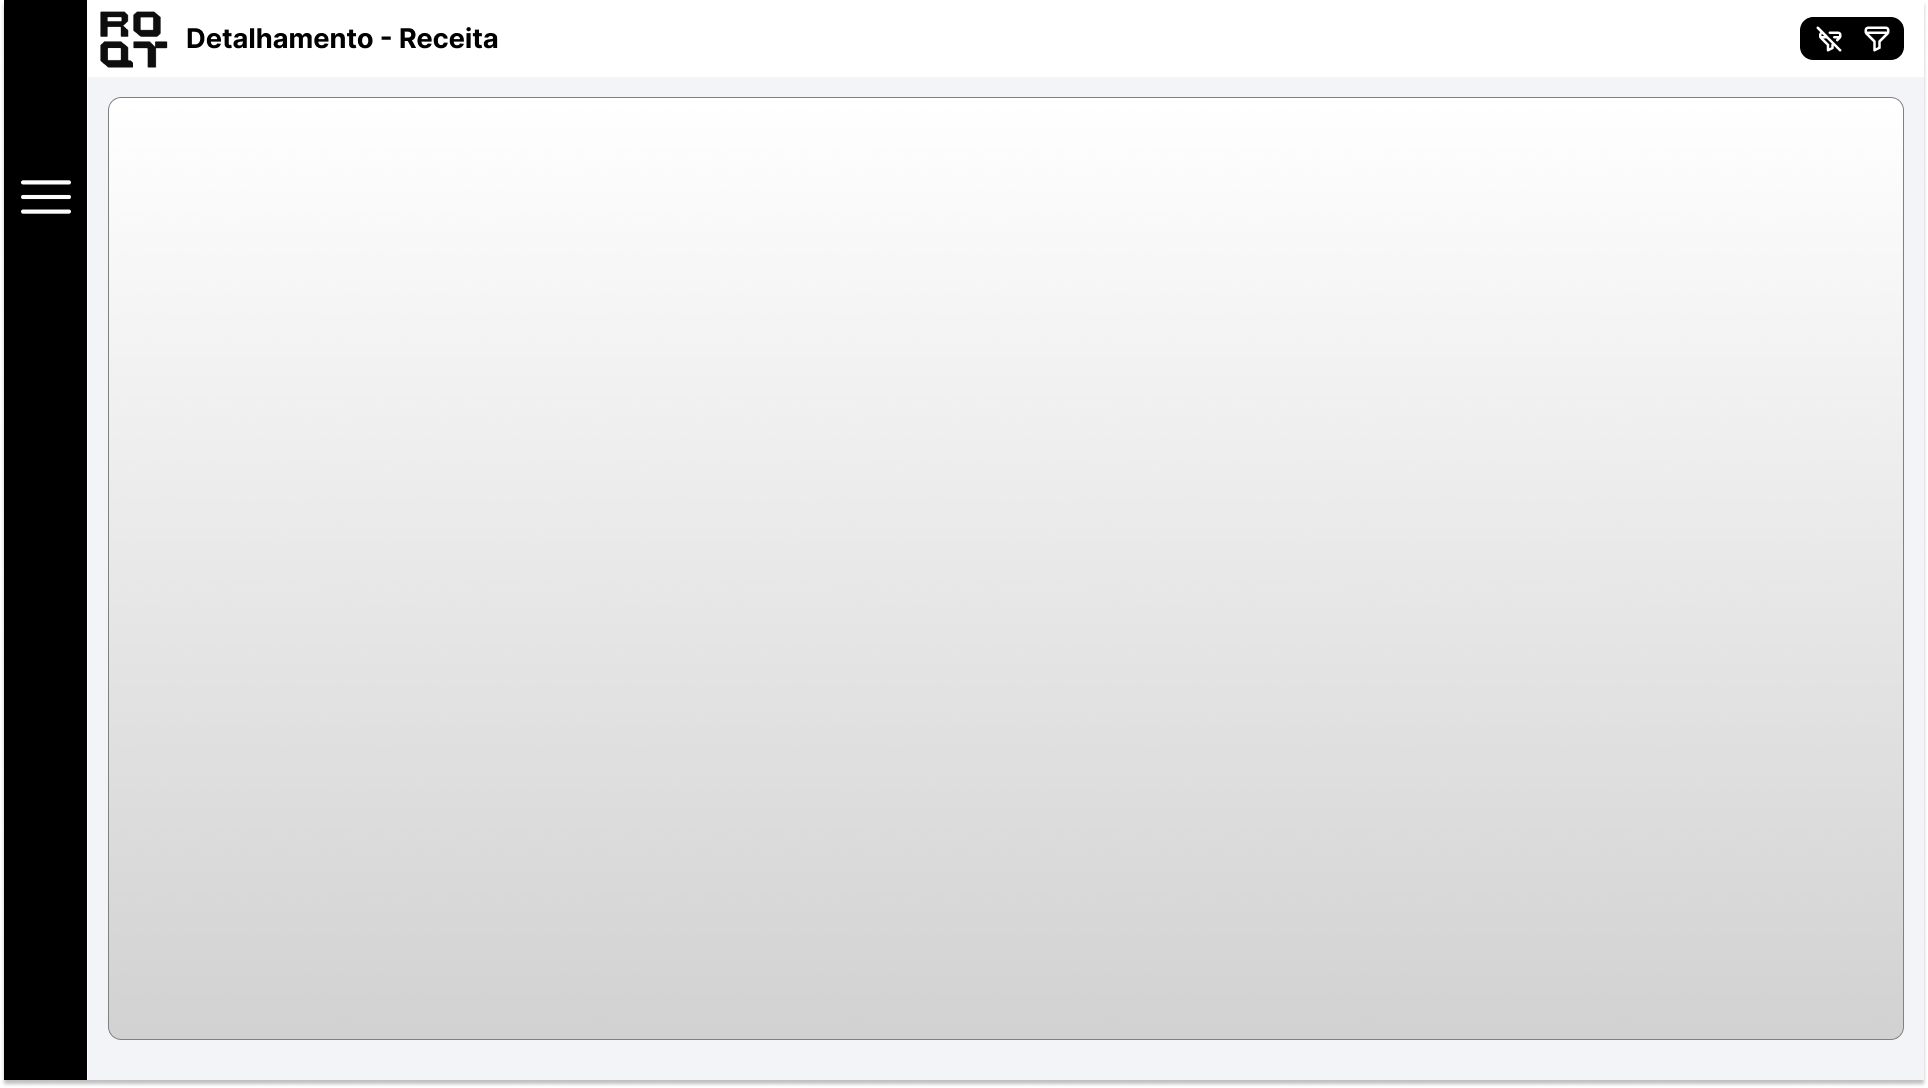

Layout of this report page (visuals, bound fields, positions):
{"tool":"powerbi","page":{"name":"Det. Receita","canvas":[1280,720],"ordinal":7},"visuals":[{"type":"group","id":"g1","title":"Geral","box":[0,11,1264.1,673.1],"z":0},{"type":"tableEx","title":"tabela","fields":{"Values":["d_Calendario.Date","d_Centro_de_Custo.Departamento","d_Centro_de_Custo.Gestor","d_Centro_de_Custo.Nome","d_Plano_de_Contas.Grupo","d_Plano_de_Contas.Nome","Medidas.m_receita","f_Lancamentos_Financeiros.Observacao"]},"box":[71.8,64.1,1192.3,620],"z":0,"group":"g1"},{"type":"actionButton","title":"botao - menu lateral","box":[0,110,57.5,40],"z":1000,"group":"g1"},{"type":"actionButton","title":"botao - limpa filtros","box":[1198.9,11.1,30,27.8],"z":2000,"group":"g1"},{"type":"actionButton","title":"botao - filtros","box":[1229,11,30,28],"z":3000,"group":"g1"}]}

Visuals, with their boxes on the page's 1280x720 design canvas (x1, y1, x2, y2). These are canvas units, not pixel positions in the 1928x1088 screenshot, which may show the page scaled, cropped or inside an application window:
"Geral" group: [0, 11, 1264, 684]
"tabela" tableEx: [72, 64, 1264, 684]
"botao - menu lateral" actionButton: [0, 110, 58, 150]
"botao - limpa filtros" actionButton: [1199, 11, 1229, 39]
"botao - filtros" actionButton: [1229, 11, 1259, 39]
